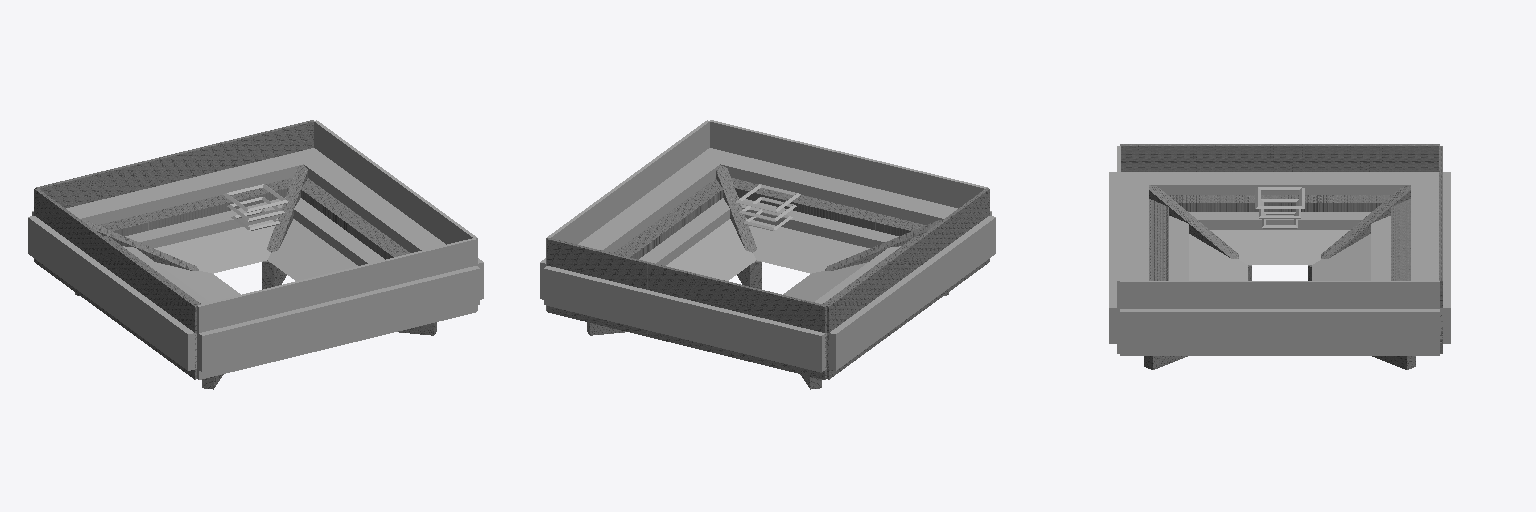
The picture shows the model from 3 angles: view 1: azimuth 30°, elevation 25°; view 2: azimuth 150°, elevation 25°; view 3: azimuth 270°, elevation 25°; orthographic projection.
Parts seen in each view (by area): view 1: Box5, Box1, Box2, Box, Box7, Box3, Merged_Meshes, Box6, Merged_Meshes1, Box8, Box4, Box9 (+1 smaller); view 2: Box6, Box2, Box1, Box, Box7, Box3, Merged_Meshes, Box5, Merged_Meshes1, Box8, Box4, Box12 (+1 smaller); view 3: Box8, Box4, Box3, Box, Merged_Meshes, Box7, Merged_Meshes1, Box6, Box5, Box10, Box11, Box2 (+1 smaller).
Boxes of the visible parts, x1,y1,x2,y2 form: Box5: [197, 266, 479, 372]; Box1: [197, 238, 476, 379]; Box2: [35, 120, 313, 208]; Box: [154, 218, 357, 301]; Box7: [28, 216, 196, 370]; Box3: [34, 188, 197, 379]; Merged_Meshes: [98, 178, 409, 304]; Box6: [32, 148, 317, 224]; Merged_Meshes1: [123, 197, 384, 303]; Box8: [292, 148, 483, 299]; Box4: [314, 120, 477, 310]; Box9: [262, 165, 307, 289]; Box6: [544, 266, 826, 372]; Box2: [547, 238, 826, 379]; Box1: [710, 120, 988, 208]; Box: [666, 218, 869, 301]; Box7: [827, 216, 995, 370]; Box3: [826, 188, 989, 379]; Merged_Meshes: [614, 178, 925, 304]; Box5: [708, 148, 991, 224]; Merged_Meshes1: [639, 197, 900, 303]; Box8: [540, 148, 733, 299]; Box4: [546, 120, 709, 310]; Box12: [716, 165, 761, 289]; Box8: [1120, 309, 1439, 348]; Box4: [1120, 281, 1439, 355]; Box3: [1120, 144, 1439, 171]; Box: [1189, 230, 1370, 280]; Merged_Meshes: [1149, 195, 1410, 280]; Box7: [1121, 172, 1418, 194]; Merged_Meshes1: [1169, 212, 1390, 280]; Box6: [1411, 172, 1450, 343]; Box5: [1109, 172, 1148, 343]; Box10: [1308, 185, 1410, 280]; Box11: [1149, 185, 1251, 280]; Box2: [1439, 146, 1442, 353].
Bounding box in the file's own units: 84.67 × 32.51 × 84.67.
4 materials, 1 textured.